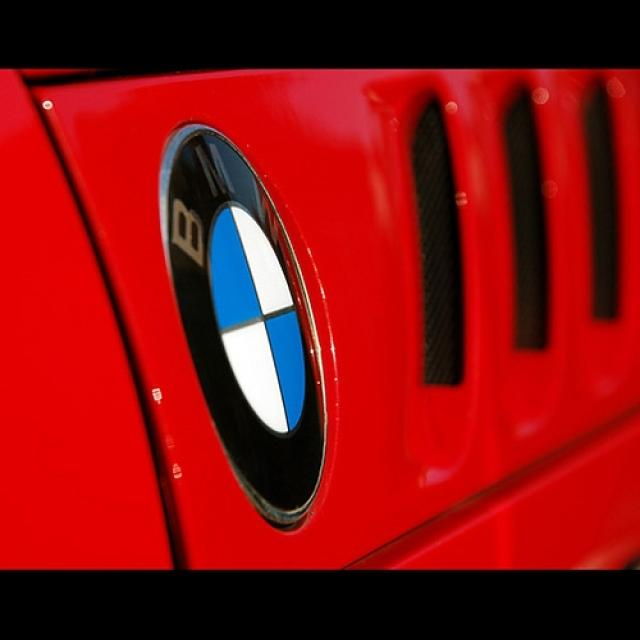bmw: (151, 117, 343, 543)
